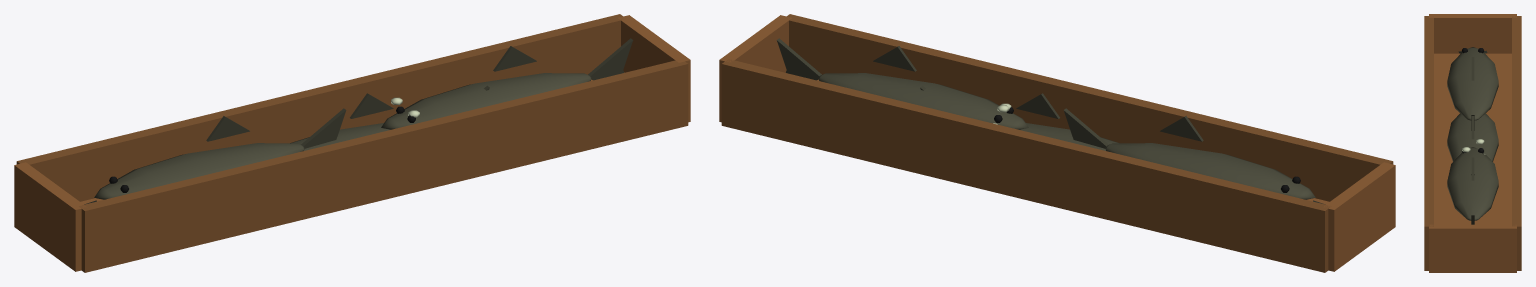
Rendered from Fish_Catfish.fbx.
The picture shows the model from 3 angles, left to right: view 1: azimuth 30°, elevation 25°; view 2: azimuth 150°, elevation 25°; view 3: azimuth 270°, elevation 25°; orthographic projection. The views are drawn at different scales.
Visible parts, largest first — view 1: Fish_Catfish__Stack, Fish_Catfish; view 2: Fish_Catfish__Stack, Fish_Catfish; view 3: Fish_Catfish__Stack, Fish_Catfish, Fish_Catfish__Rotten.
Boxes of the visible parts, x1=… form: Fish_Catfish__Stack: x1=14, y1=14, x2=690, y2=272; Fish_Catfish: x1=290, y1=85, x2=489, y2=150; Fish_Catfish__Stack: x1=719, y1=14, x2=1395, y2=272; Fish_Catfish: x1=920, y1=85, x2=1119, y2=150; Fish_Catfish__Stack: x1=1424, y1=14, x2=1521, y2=272; Fish_Catfish: x1=1447, y1=113, x2=1498, y2=174; Fish_Catfish__Rotten: x1=1462, y1=139, x2=1485, y2=154.
Bounding box in the file's own units: 0.4165 × 0.0577 × 0.08.
